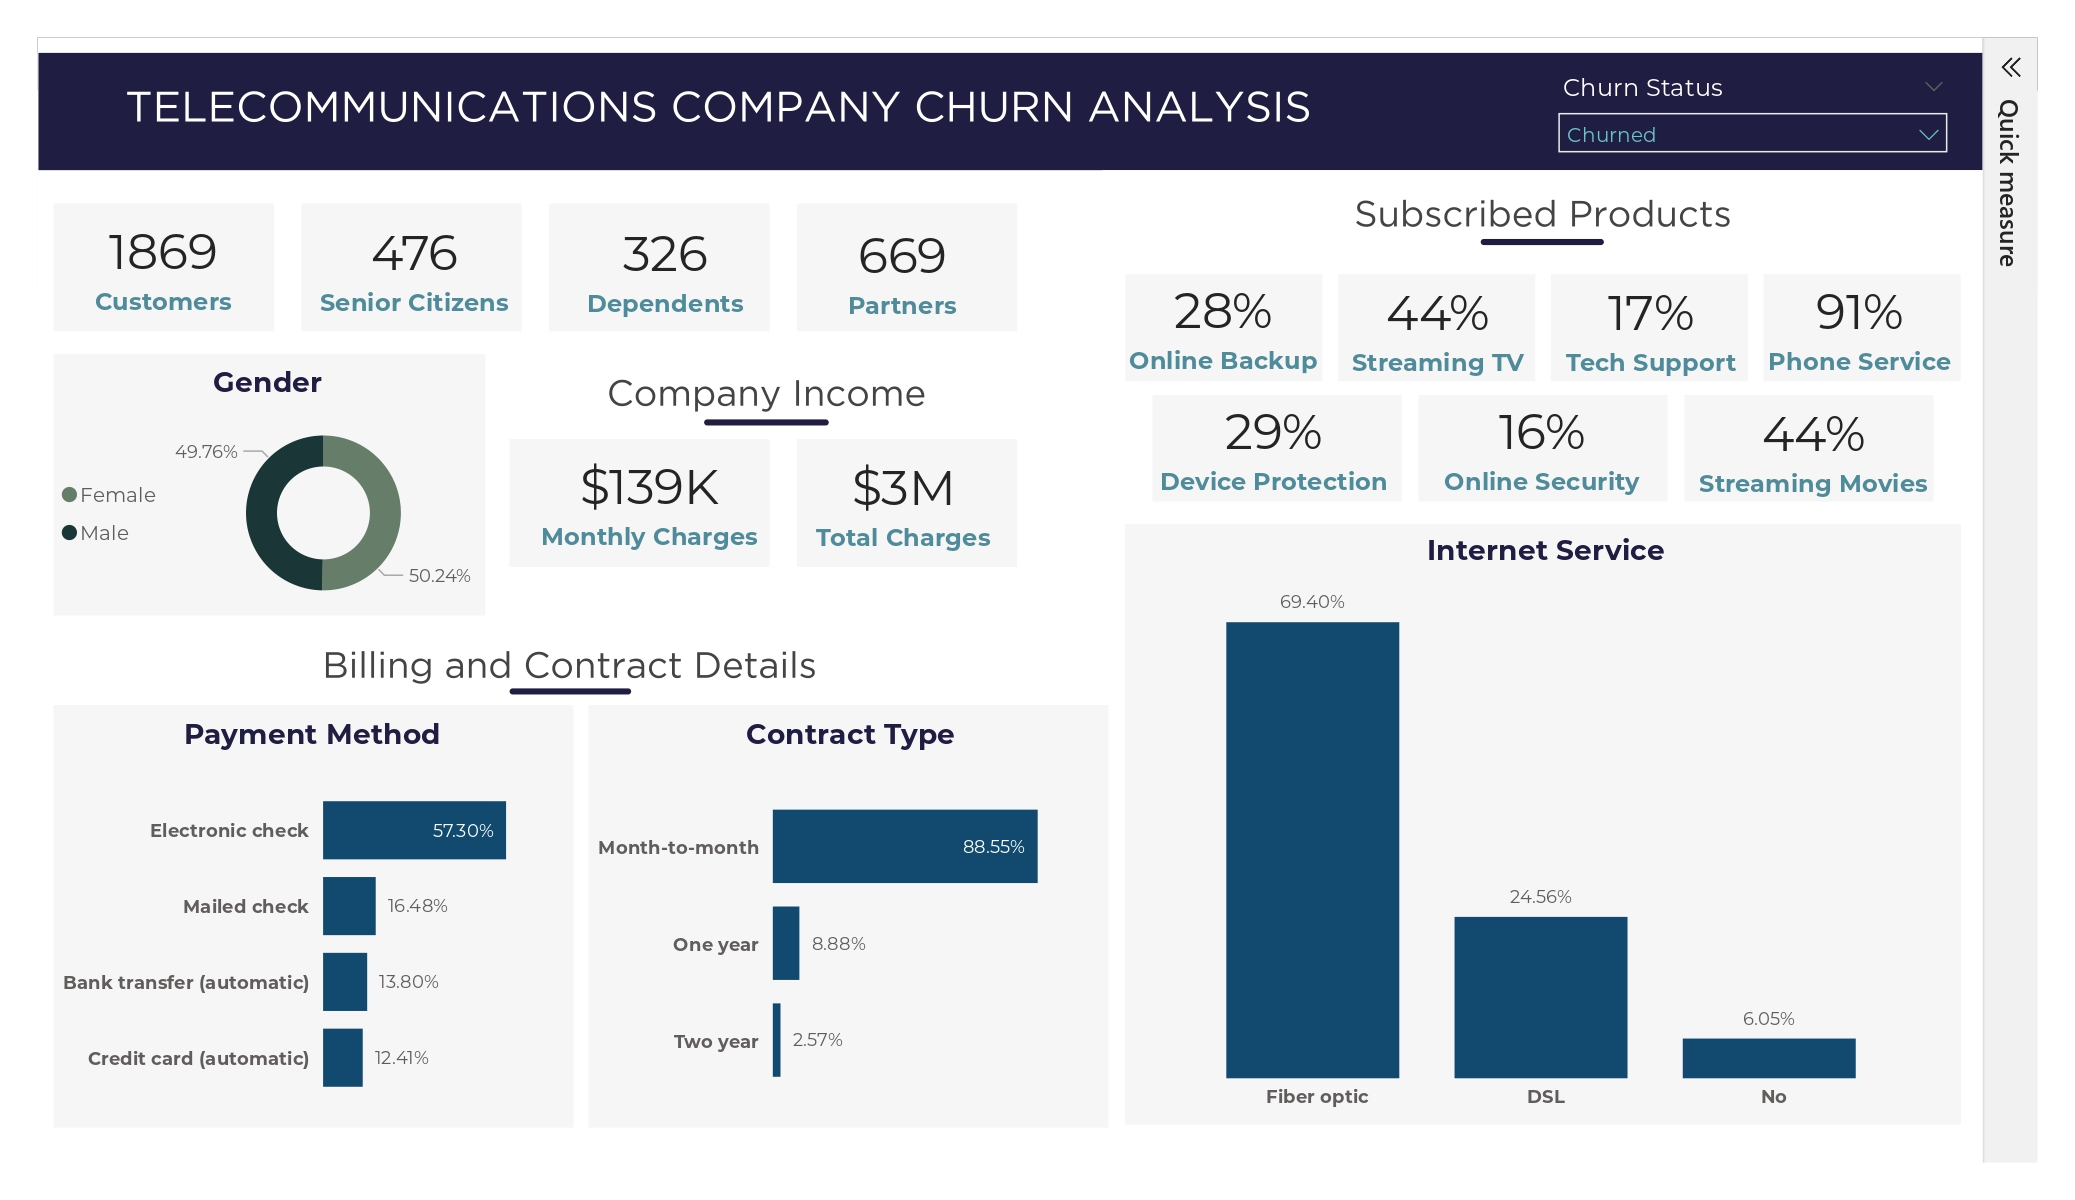

What the dashboard file says about the page in this screenshot:
{"tool":"powerbi","page":{"name":"Page 1","canvas":[1280,720],"ordinal":0},"visuals":[{"type":"card","fields":{"Values":["CountNonNull(Table1.customerID)"]},"box":[11.9,98.2,142.9,83.3],"z":0},{"type":"card","fields":{"Values":["Table1.Count of SeniorCitizen for true"]},"box":[172.9,97.8,150.2,85],"z":1000},{"type":"donutChart","title":"Gender","fields":{"Y":["CountNonNull(Table1.gender)"],"Category":["Table1.gender"]},"box":[9.9,198.4,283.5,178.6],"z":2000},{"type":"card","fields":{"Values":["Table1.%OnlineBackup"]},"box":[712.9,141.7,134.6,73.7],"z":4000},{"type":"card","fields":{"Values":["Table1.%OnlineSecurity"]},"box":[928.3,219.7,153.1,76.5],"z":5000},{"type":"card","fields":{"Values":["Table1.%StreamingTV"]},"box":[857.3,141.4,128,76],"z":6000},{"type":"card","fields":{"Values":["Table1.%DeviceProtection"]},"box":[759.7,219.7,161.6,76.5],"z":7000},{"type":"card","fields":{"Values":["Table1.%StreamingMovies"]},"box":[1082.8,221.1,165.8,76.5],"z":8000},{"type":"card","fields":{"Values":["Table1.%TechSupport"]},"box":[997.2,141.4,128,75.9],"z":9000},{"type":"card","fields":{"Values":["Table1.%PhoneService"]},"box":[1131,141.7,136.1,75.1],"z":10000},{"type":"card","fields":{"Values":["Table1.Count of Partner for Yes"]},"box":[496.1,100.6,146,83.6],"z":11000},{"type":"card","fields":{"Values":["Table1.Count of Dependents for Yes"]},"box":[341.6,99.2,143.1,83.6],"z":12000},{"type":"clusteredColumnChart","title":"Internet Service","fields":{"Category":["Table1.InternetService"],"Y":["Divide(CountNonNull(Table1.InternetService), ScopedEval(CountNonNull(Table1.InternetService), []))"]},"box":[716.5,308.9,550.6,394.7],"z":13000},{"type":"clusteredBarChart","title":"Contract Type","fields":{"Category":["Table1.Contract"],"Y":["CountNonNull(Table1.Contract)"]},"box":[363.3,429.1,344.7,277.5],"z":14000},{"type":"clusteredBarChart","title":"Payment Method","fields":{"Category":["Table1.PaymentMethod"],"Y":["CountNonNull(Table1.PaymentMethod)"]},"box":[10,429.1,341.8,277.5],"z":15000},{"type":"card","fields":{"Values":["Sum(Table1.MonthlyCharges)"]},"box":[321.7,253.7,161.6,80.8],"z":16000},{"type":"card","fields":{"Values":["Sum(Table1.TotalCharges)"]},"box":[497.5,253.7,144.6,82.2],"z":17000},{"type":"slicer","fields":{"Values":["Table1.Churn Status"]},"box":[966,8.9,300.7,64],"z":17001}]}

Visuals, with their boxes on the page's 1280x720 design canvas (x1, y1, x2, y2). These are canvas units, not pixel positions in the 2075x1200 screenshot, which may show the page scaled, cropped or inside an application window:
card - CountNonNull(Table1.customerID): crop(12, 98, 155, 182)
card - Table1.Count of SeniorCitizen for true: crop(173, 98, 323, 183)
"Gender" donutChart: crop(10, 198, 293, 377)
card - Table1.%OnlineBackup: crop(713, 142, 848, 215)
card - Table1.%OnlineSecurity: crop(928, 220, 1081, 296)
card - Table1.%StreamingTV: crop(857, 141, 985, 217)
card - Table1.%DeviceProtection: crop(760, 220, 921, 296)
card - Table1.%StreamingMovies: crop(1083, 221, 1249, 298)
card - Table1.%TechSupport: crop(997, 141, 1125, 217)
card - Table1.%PhoneService: crop(1131, 142, 1267, 217)
card - Table1.Count of Partner for Yes: crop(496, 101, 642, 184)
card - Table1.Count of Dependents for Yes: crop(342, 99, 485, 183)
"Internet Service" clusteredColumnChart: crop(716, 309, 1267, 704)
"Contract Type" clusteredBarChart: crop(363, 429, 708, 707)
"Payment Method" clusteredBarChart: crop(10, 429, 352, 707)
card - Sum(Table1.MonthlyCharges): crop(322, 254, 483, 334)
card - Sum(Table1.TotalCharges): crop(498, 254, 642, 336)
slicer - Table1.Churn Status: crop(966, 9, 1267, 73)
